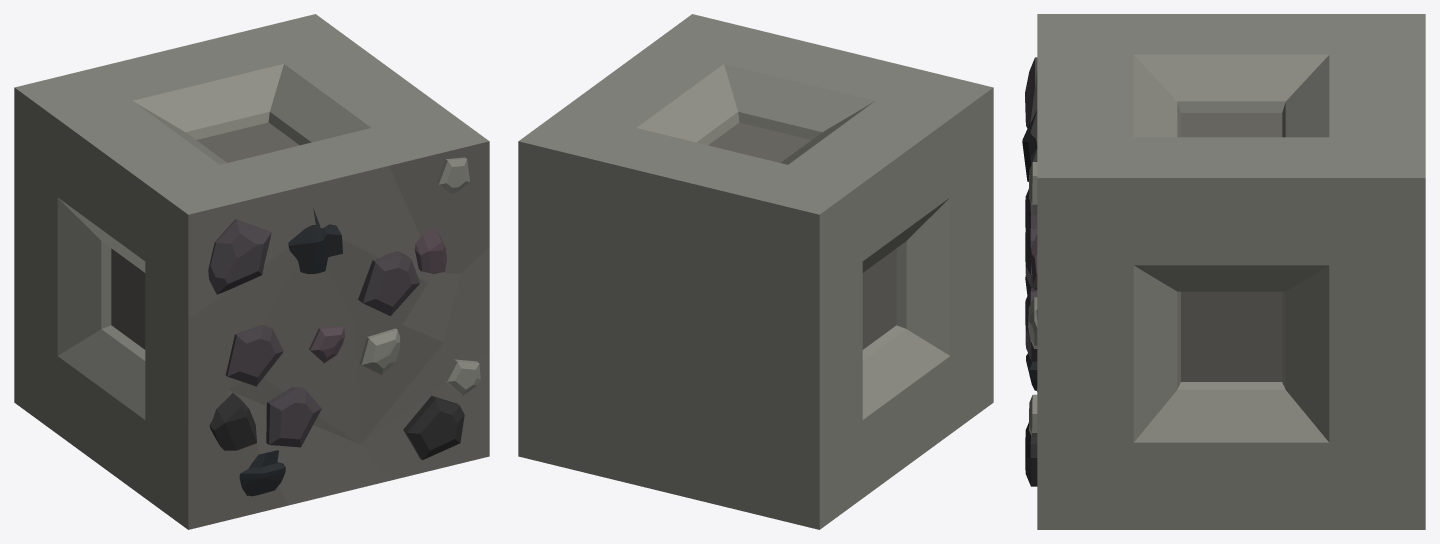
The picture shows the model from 3 angles, left to right: view 1: azimuth 30°, elevation 25°; view 2: azimuth 150°, elevation 25°; view 3: azimuth 270°, elevation 25°; orthographic projection. The views are drawn at different scales.
Visible parts, largest first — view 1: Cube.116; view 2: Cube.116; view 3: Cube.116.
Boxes of the visible parts, x1,y1,x2,y2 form: Cube.116: [14, 14, 489, 529]; Cube.116: [518, 14, 993, 529]; Cube.116: [1022, 14, 1425, 529].
Bounding box in the file's own units: 1 × 1 × 1.04.
Materials: 1 (1 with a texture image).
